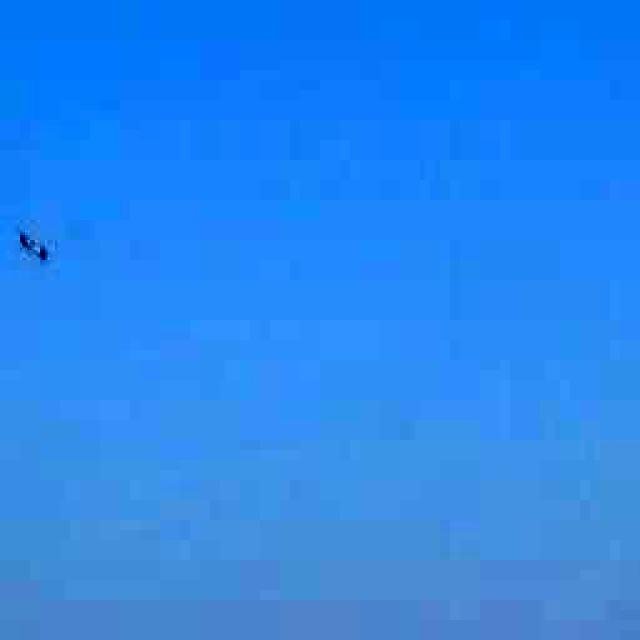bird: (6, 220, 66, 272)
